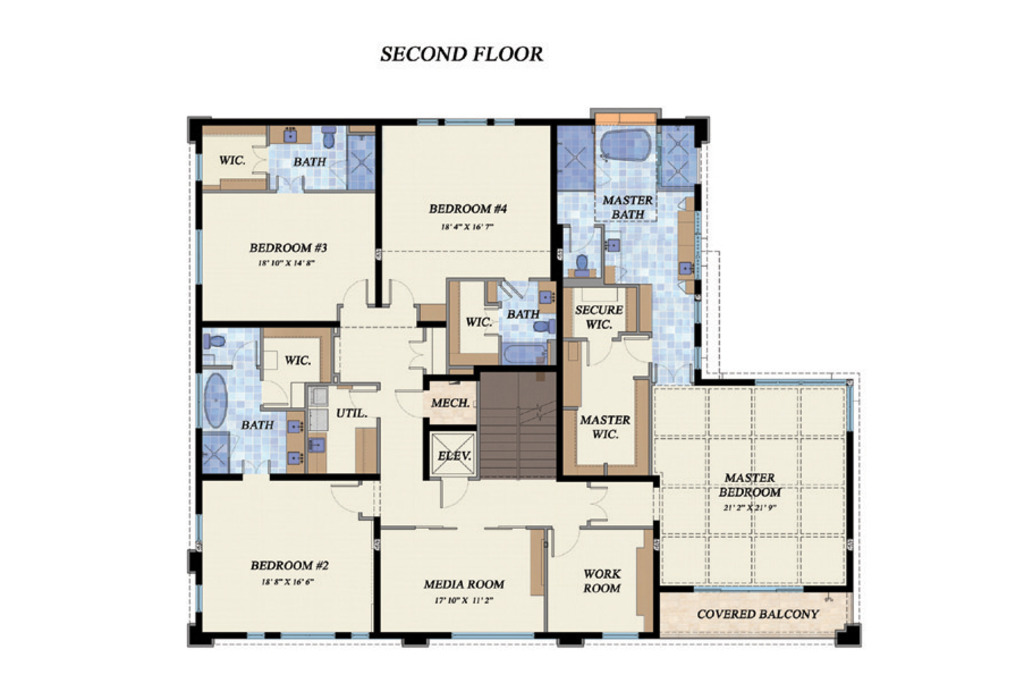door: (329, 480, 375, 512), (383, 272, 421, 309), (259, 373, 293, 412), (545, 524, 582, 559), (436, 475, 470, 509), (581, 333, 616, 366), (396, 383, 427, 420), (338, 271, 371, 305), (652, 361, 695, 387), (582, 479, 607, 523), (405, 330, 428, 376), (343, 384, 379, 413), (229, 339, 261, 371), (565, 221, 598, 251), (249, 140, 273, 178), (621, 333, 653, 361), (238, 455, 275, 476), (271, 174, 311, 193), (327, 158, 348, 190)
large_sink: (313, 121, 341, 153), (564, 252, 589, 279), (526, 315, 555, 338), (201, 330, 231, 350)
small_sink: (285, 411, 305, 475), (301, 430, 331, 461), (276, 123, 302, 142), (676, 254, 696, 277), (605, 235, 626, 255)
stairs: (477, 369, 560, 477)
tub: (190, 365, 236, 430), (592, 123, 658, 163), (500, 337, 549, 362)
window: (409, 112, 518, 130), (449, 626, 539, 640), (192, 225, 208, 287), (190, 151, 207, 182)
